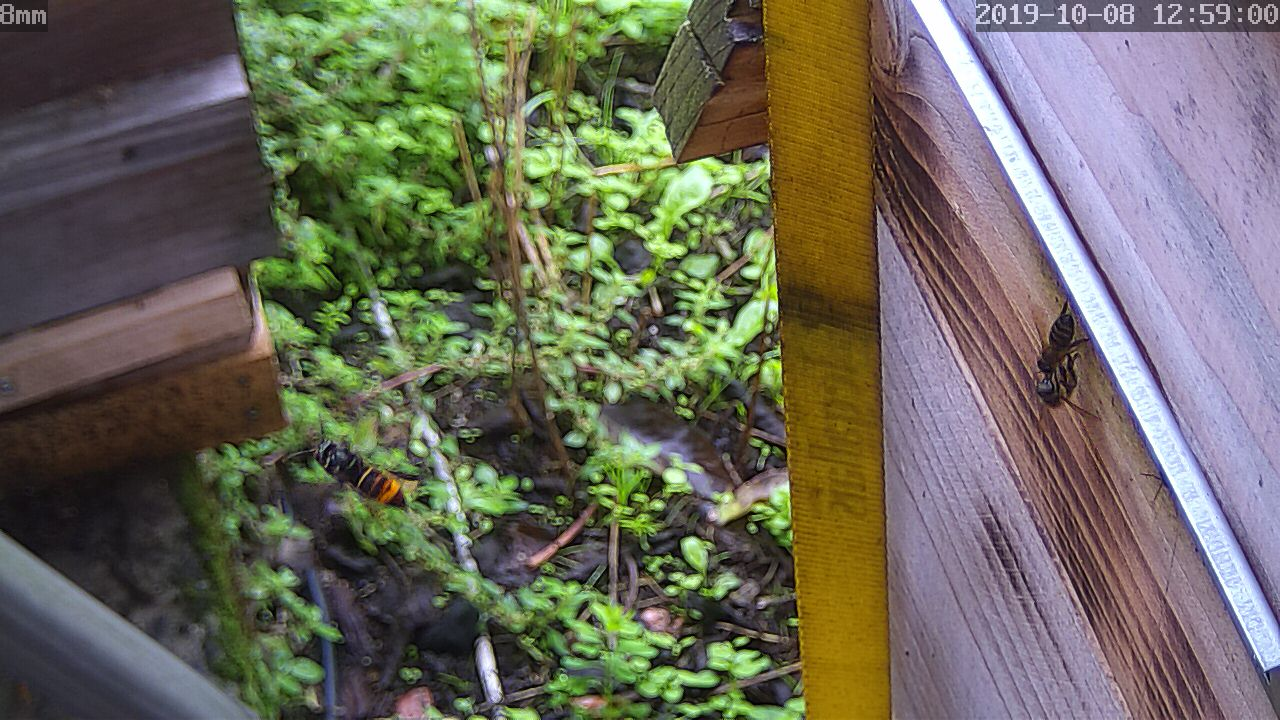hornet: (1017, 298, 1093, 423), (315, 437, 412, 518)
